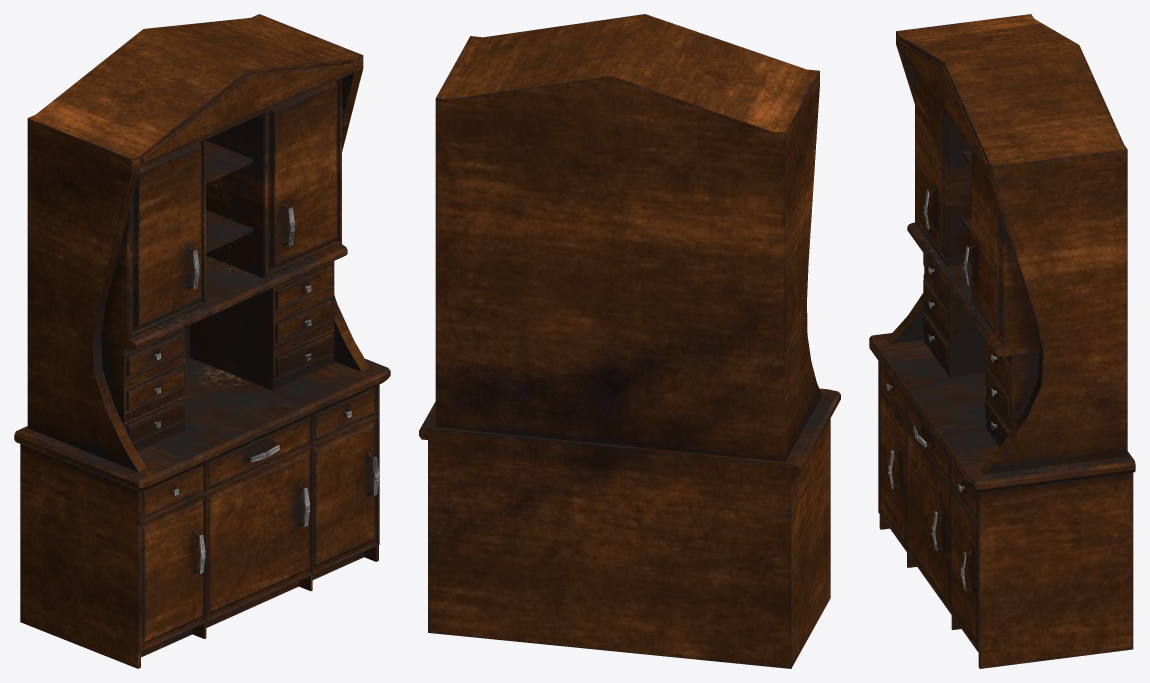
The model's file is cabinet_old.glb.
The picture shows the model from 3 angles, left to right: view 1: azimuth 30°, elevation 25°; view 2: azimuth 150°, elevation 25°; view 3: azimuth 270°, elevation 25°; orthographic projection. The views are drawn at different scales.
Parts seen in each view (by area): view 1: Box0009__0; view 2: Box0009__0; view 3: Box0009__0.
Part boxes in pixels (box(x1,y1,x2,y2)): Box0009__0: box(14, 14, 390, 668); Box0009__0: box(419, 14, 840, 668); Box0009__0: box(869, 14, 1135, 668).
Bounding box in the file's own units: 3.45 × 5.11 × 2.31.
1 material, 1 textured.
